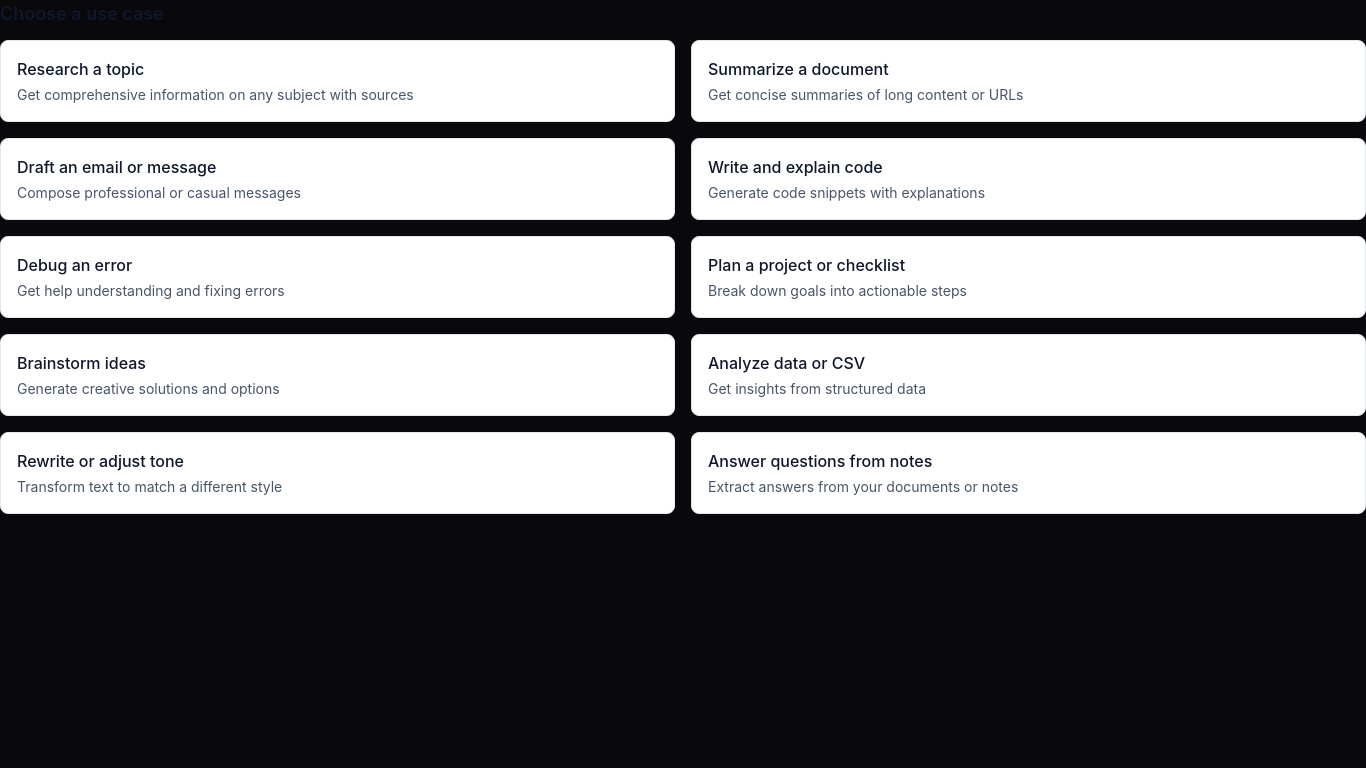
it: UseCaseBuilder › typing into fields updates the live prompt preview
Click the radio button "Research a topic": (338, 81) x1=0 y1=40 x2=675 y2=122
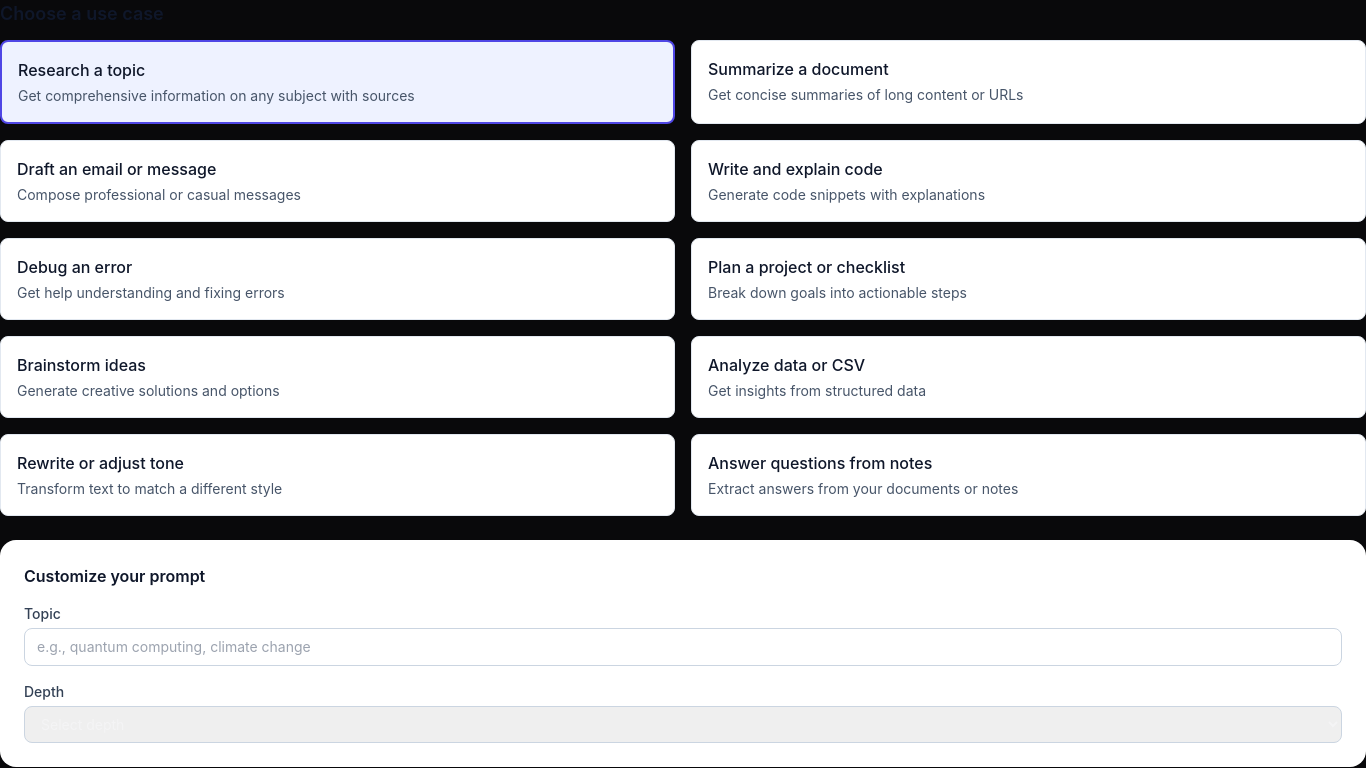
Now the field is shown
# Type into the first text field
In the field: (683, 647) x1=24 y1=628 x2=1342 y2=666, type "machine learning"
(page scrolled)
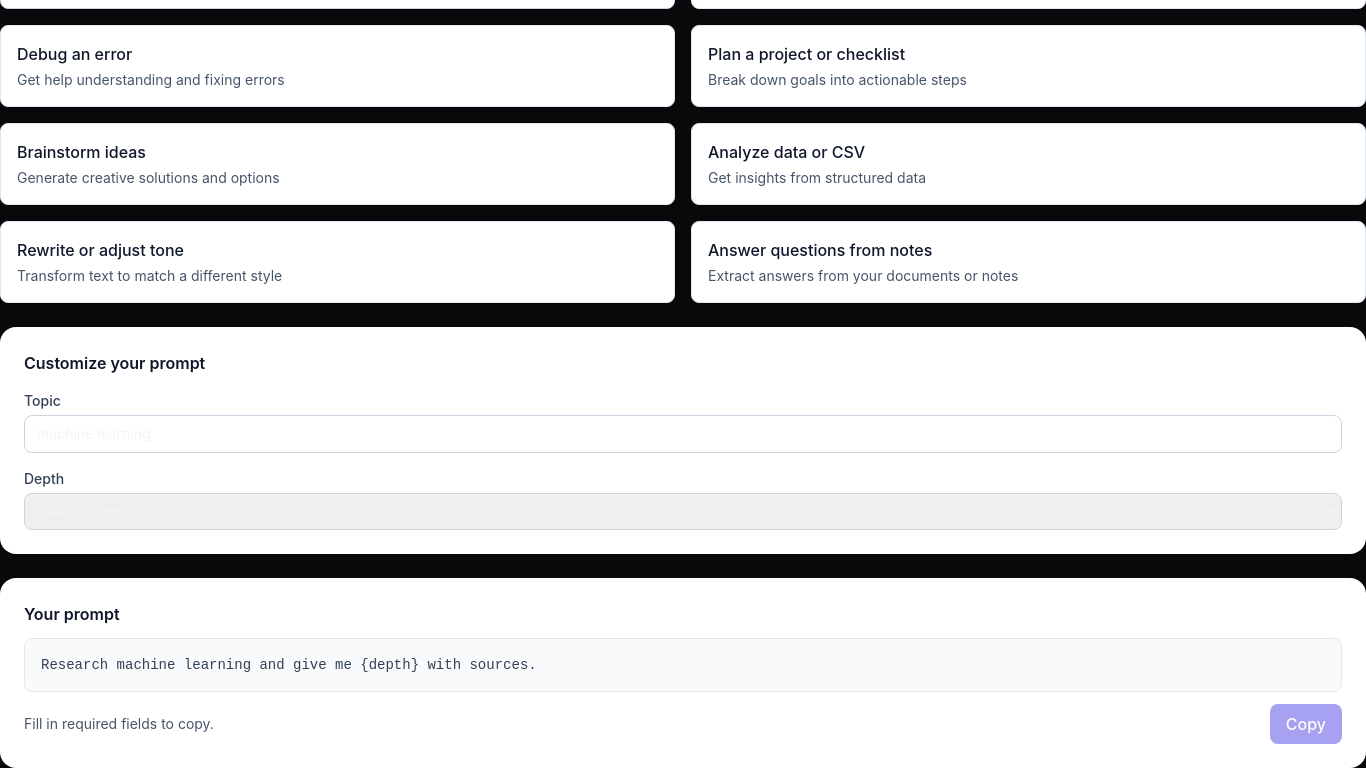
Now the text "Research machine learning and give me {depth} with sources." is shown, box x1=24 y1=638 x2=1342 y2=692
